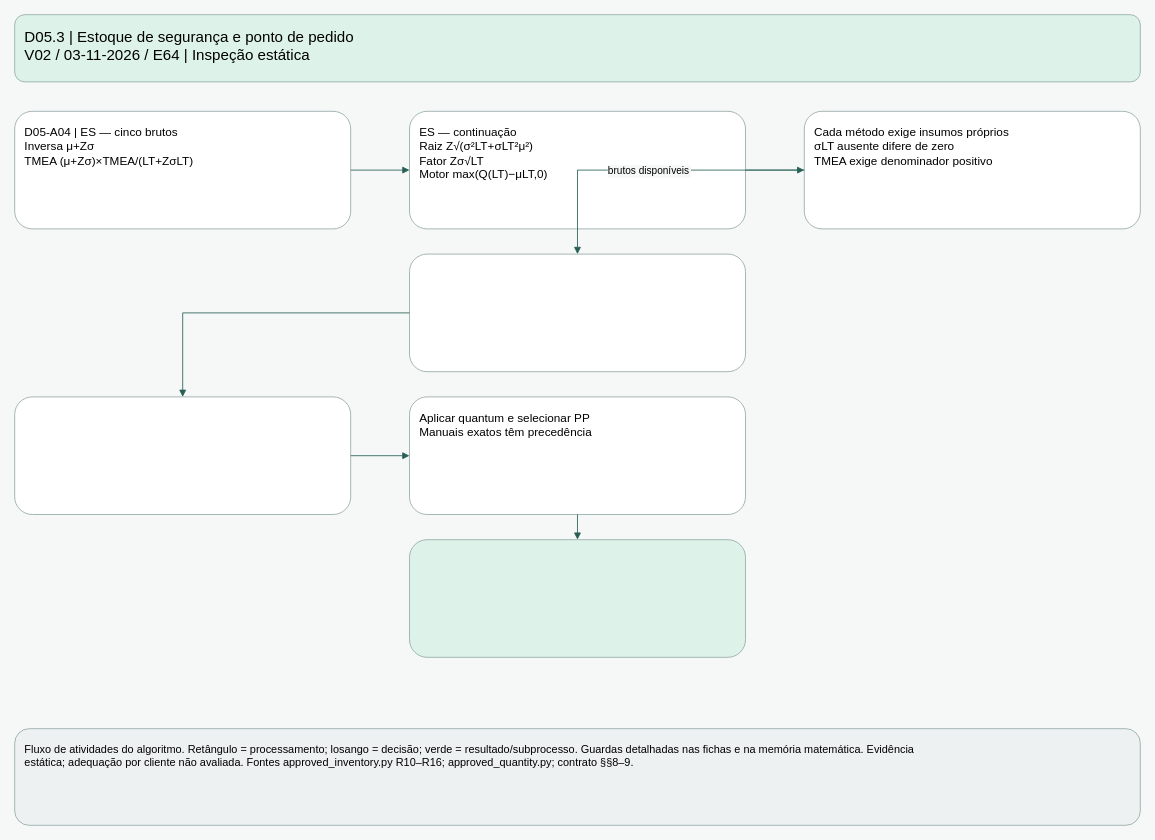
This 1155x840 diagram has some shape labels left out. The shapes that lost their labels are listed below. From the top down, each one's centre as x and y in pixels, then its label:
At (x=577, y=312): "Aplicar quantum e selecionar ES D05-A08/A09".
At (x=182, y=455): "D05-A05 | PP Tradicional μLT+ES escolhido Motor Q(LT)".
At (x=577, y=598): "ES e PP escolhidos + origens Seguir EM em D05.4".
